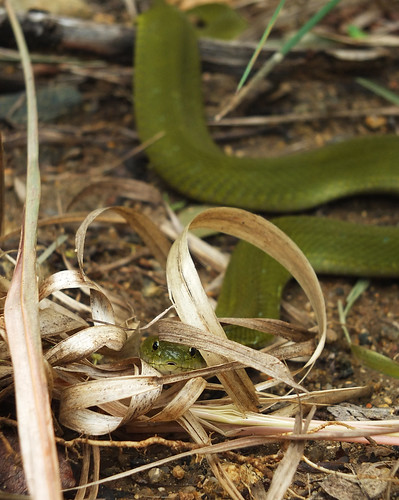animal: (132, 1, 399, 372)
vegetation: (1, 3, 397, 500)
